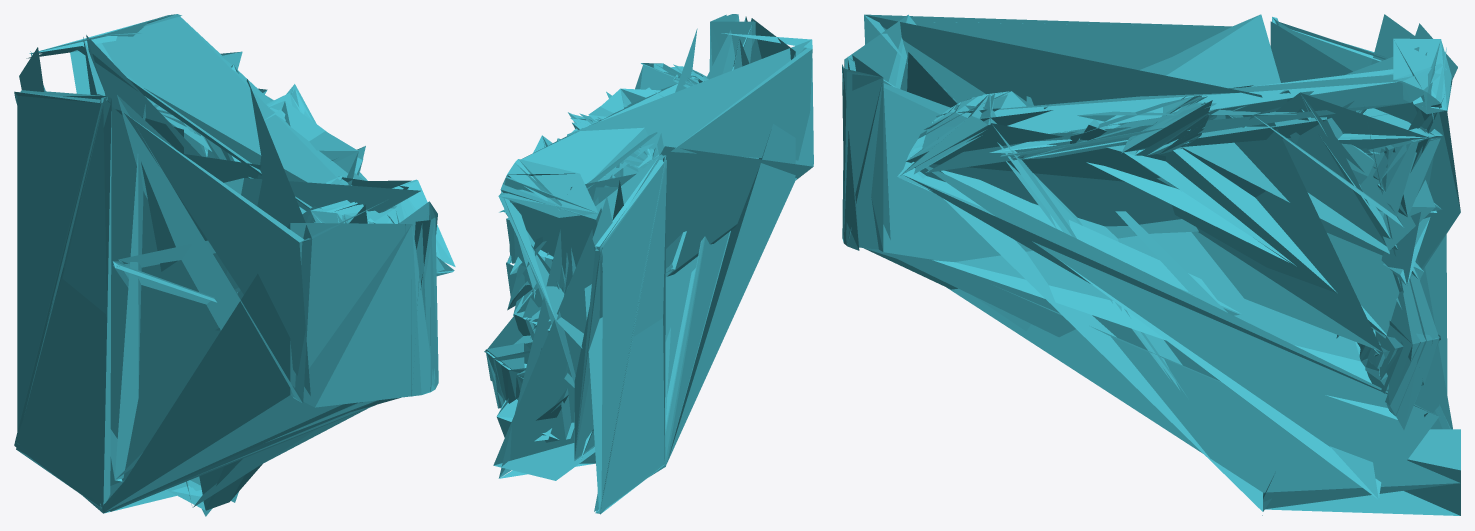
3 renders of one model, left to right at view 1: azimuth 30°, elevation 25°; view 2: azimuth 150°, elevation 25°; view 3: azimuth 270°, elevation 25°, orthographic. The views are drawn at different scales.
Visible parts, largest first — view 1: Renderer Node; view 2: Renderer Node; view 3: Renderer Node.
Part boxes in pixels (x1=…): Renderer Node: x1=14, y1=14, x2=455, y2=516; Renderer Node: x1=484, y1=14, x2=813, y2=514; Renderer Node: x1=842, y1=14, x2=1460, y2=515.
Size of the model in its own units: 0.249 by 0.6082 by 0.7529.
Materials: 1 (1 with a texture image).
